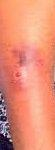Spider: (8, 45, 38, 88)
